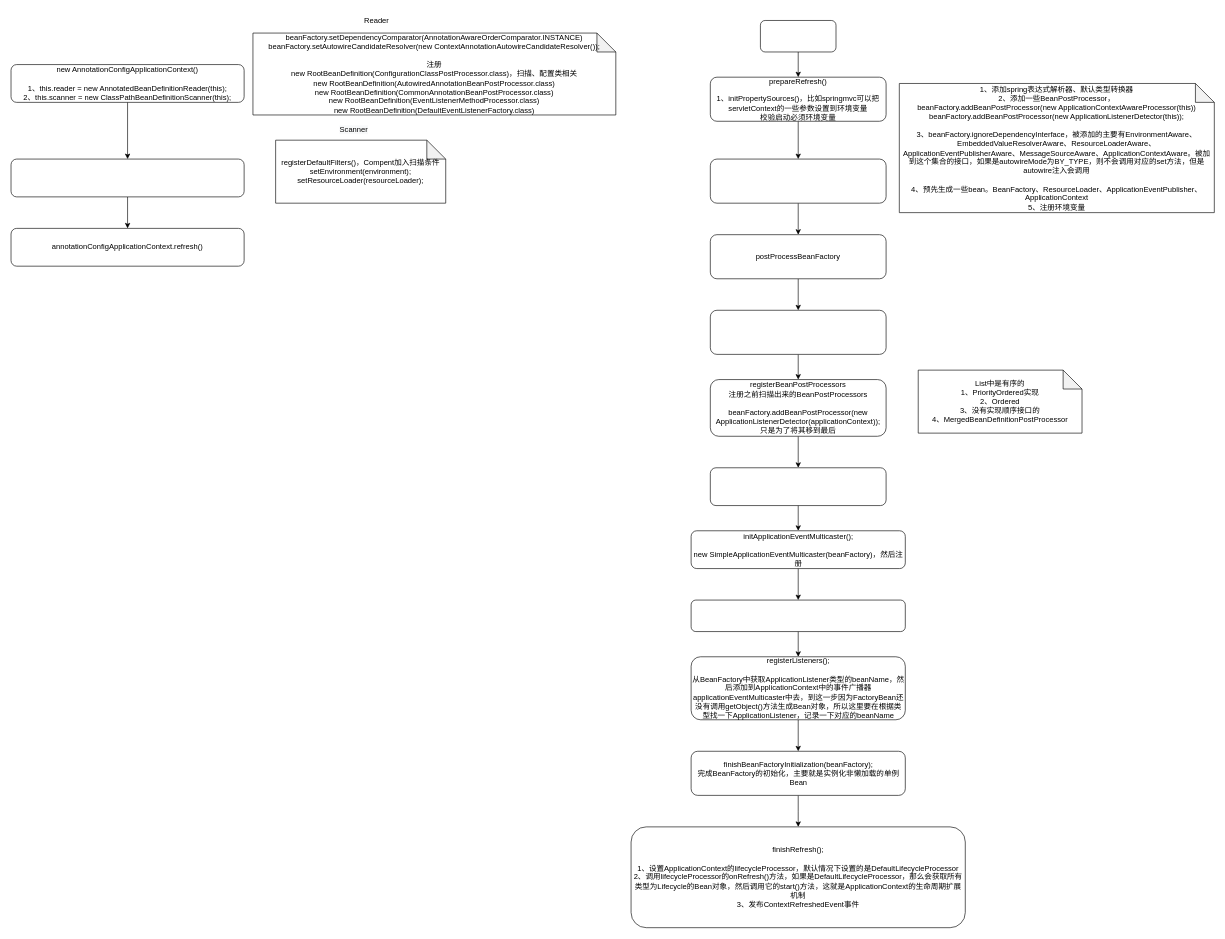
Image size: 1225x939. Some labels were removed from this diagram. Each missing label, with the centre of its shape:
"annotationConfigApplicationContext.register(UserDAO.class) 生成bd，注册" belongs at point 127,177.
"initMessageSource(); 国际化功能相关" belongs at point 798,486.
"invokeBeanFactoryPostProcessors 完成配置类，扫描" belongs at point 798,332.
"onRefresh();" belongs at point 797,615.
"prepareBeanFactory(beanFactory)" belongs at point 798,180.
"refresh()" belongs at point 798,36.
